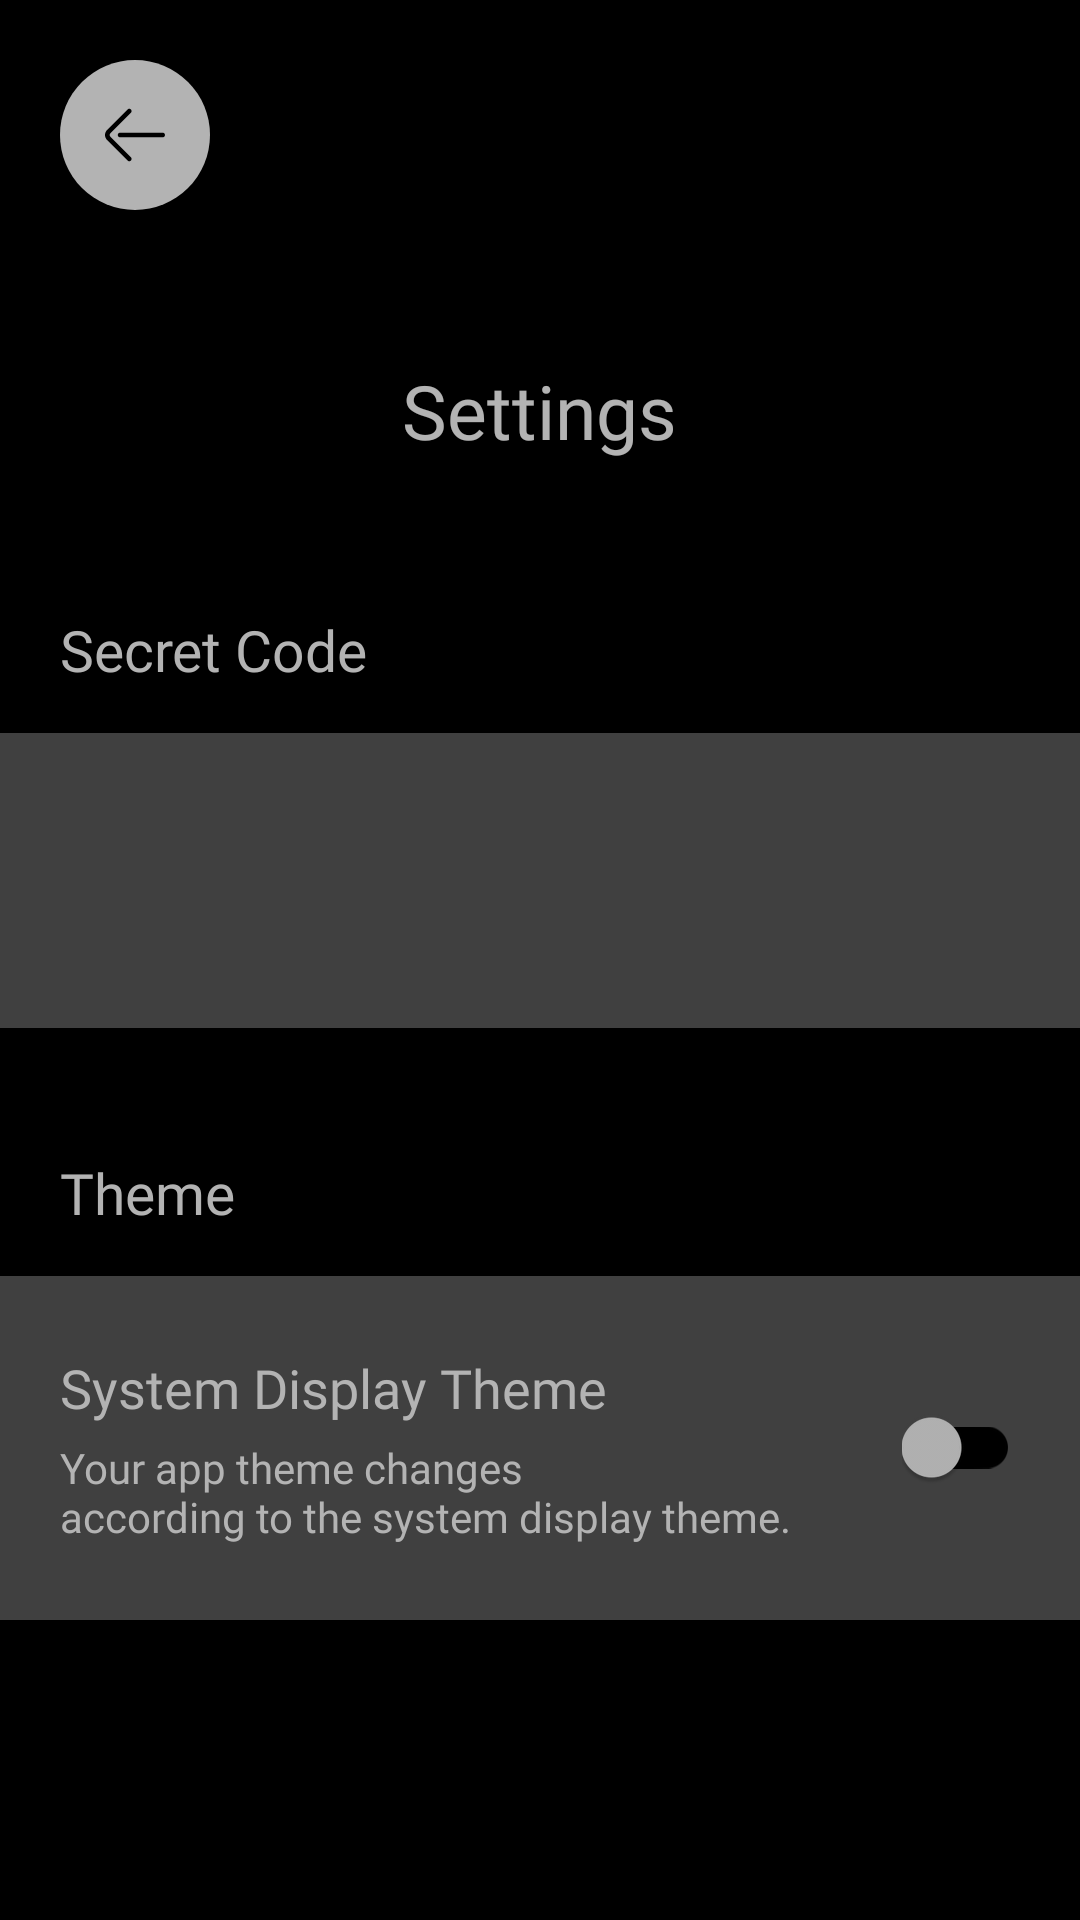

Icon bounding boxes for this 1080×1920 phone screenshot, format region(x1, y1, x2, y2):
back: region(60, 60, 210, 210)
